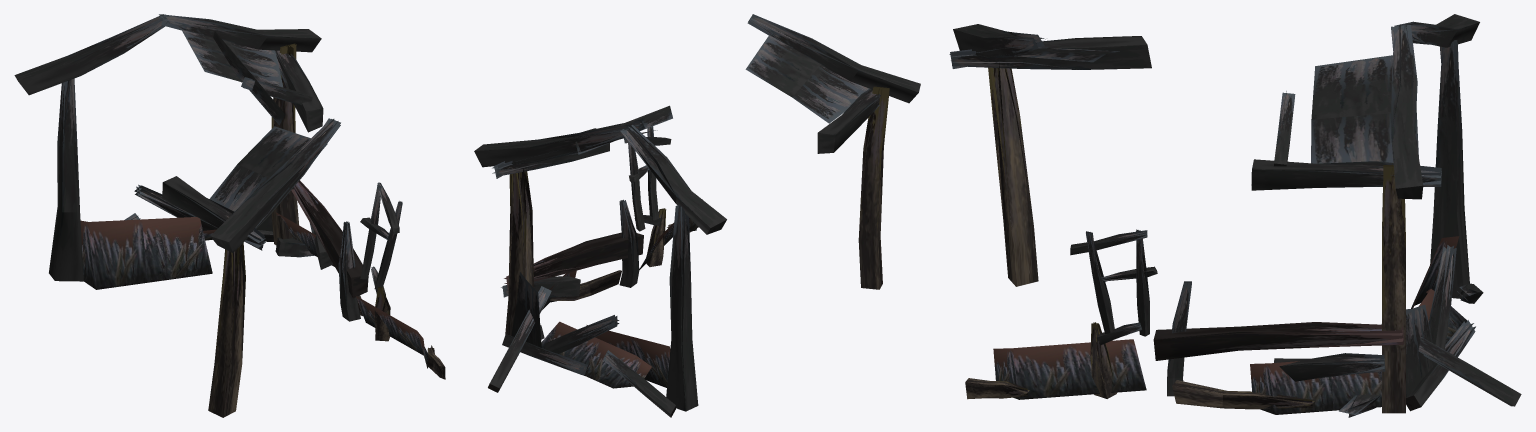
File: burned_house.fbx
The picture shows the model from 3 angles, left to right: view 1: azimuth 30°, elevation 25°; view 2: azimuth 150°, elevation 25°; view 3: azimuth 270°, elevation 25°; orthographic projection. The views are drawn at different scales.
Parts seen in each view (by area): view 1: pPlane6, polySurface7, pCube1.001, polySurface10.001, polySurface32.001, polySurface24, polySurface10, polySurface32, polySurface43, polySurface26.001, pCube1, polySurface26 (+11 smaller); view 2: polySurface32.001, polySurface7, pCube1.001, polySurface10.001, polySurface10, pCube1, polySurface24, polySurface43, pPlane7, polySurface26.001, pPlane6, polySurface39 (+12 smaller); view 3: polySurface32, pPlane8, pCube1.001, polySurface43, polySurface7, pCube1, polySurface10, pPlane4, polySurface26.001, polySurface26, pCube3, polySurface27 (+17 smaller).
Part boxes in pixels (left/top/right/bottom): pPlane6: left=80, top=217, right=212, bottom=289; polySurface7: left=49, top=78, right=83, bottom=281; pCube1.001: left=208, top=216, right=245, bottom=417; polySurface10.001: left=210, top=118, right=340, bottom=252; polySurface32.001: left=209, top=126, right=327, bottom=230; polySurface24: left=14, top=14, right=170, bottom=95; polySurface10: left=159, top=14, right=321, bottom=52; polySurface32: left=181, top=30, right=283, bottom=87; polySurface43: left=291, top=180, right=368, bottom=298; polySurface26.001: left=162, top=176, right=265, bottom=250; pCube1: left=271, top=43, right=298, bottom=245; polySurface26: left=274, top=50, right=323, bottom=132; polySurface32.001: left=745, top=35, right=869, bottom=123; polySurface7: left=666, top=204, right=698, bottom=411; pCube1.001: left=858, top=86, right=889, bottom=289; polySurface10.001: left=747, top=14, right=920, bottom=103; polySurface10: left=474, top=124, right=635, bottom=167; pCube1: left=505, top=168, right=533, bottom=335; polySurface24: left=620, top=125, right=726, bottom=234; polySurface43: left=504, top=232, right=643, bottom=289; pPlane7: left=541, top=321, right=651, bottom=388; polySurface26.001: left=817, top=88, right=880, bottom=153; pPlane6: left=586, top=325, right=670, bottom=387; polySurface39: left=488, top=286, right=551, bottom=392; polySurface32: left=1311, top=55, right=1418, bottom=163; pPlane8: left=993, top=339, right=1146, bottom=399; pCube1.001: left=988, top=63, right=1038, bottom=286; polySurface43: left=1153, top=322, right=1404, bottom=360; polySurface7: left=1430, top=40, right=1469, bottom=298; pCube1: left=1382, top=163, right=1405, bottom=413; polySurface10: left=1391, top=24, right=1423, bottom=199; pPlane4: left=1250, top=361, right=1381, bottom=414; polySurface26.001: left=949, top=36, right=1151, bottom=69; polySurface26: left=1251, top=159, right=1441, bottom=190; pCube3: left=1172, top=380, right=1314, bottom=409; polySurface27: left=1274, top=353, right=1385, bottom=381.
Size of the model in its own units: 2847 by 2597 by 4099.
Materials: 1 (1 with a texture image).
